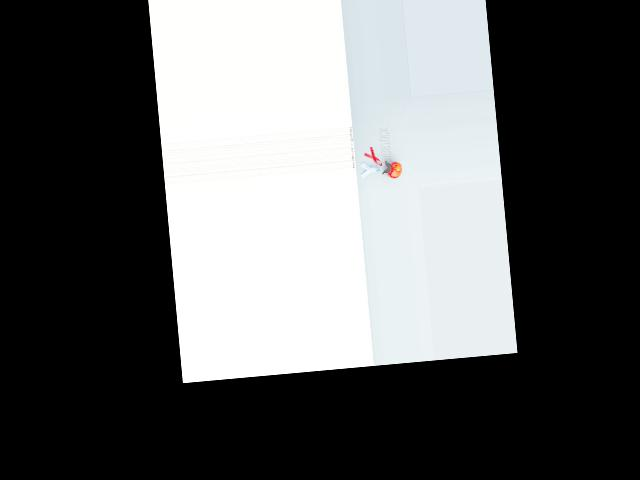tomato: (385, 160, 402, 178)
